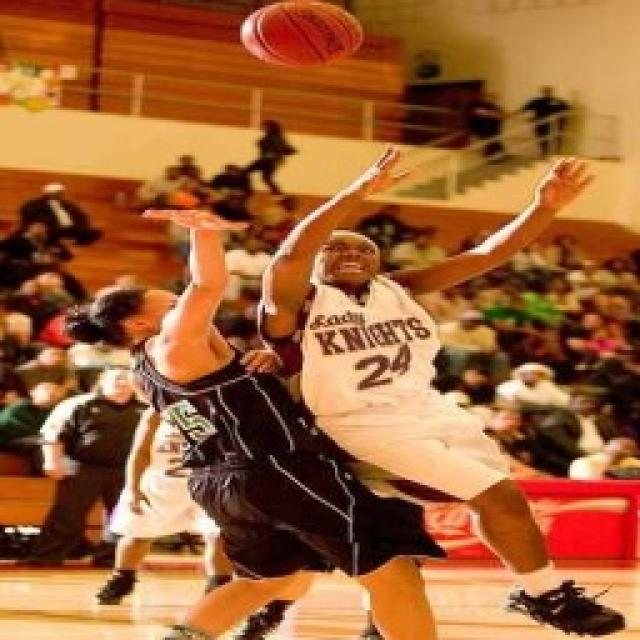rim: (233, 0, 374, 81)
